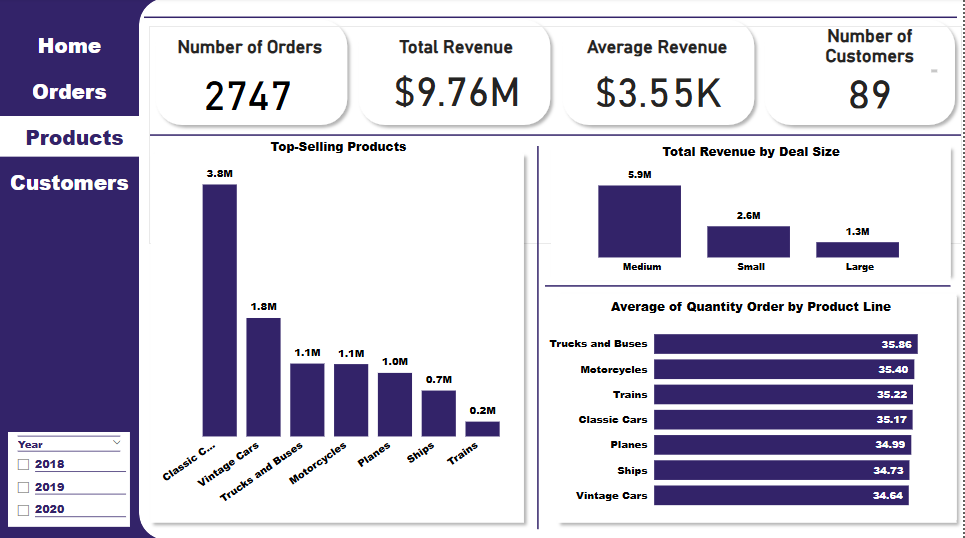

The dashboard page shown, as its layout file describes it:
{"tool":"powerbi","page":{"name":"Products","canvas":[1280,720],"ordinal":3},"visuals":[{"type":"shape","box":[739.9,20.1,272.4,157.9],"z":0,"group":"g1"},{"type":"slicer","fields":{"Values":["Orders.Year"]},"box":[11.7,360,162.4,125.9],"z":0},{"type":"shape","box":[1009.2,20.1,270.9,157.9],"z":1000,"group":"g1"},{"type":"actionButton","box":[640,36.3,152.9,52],"z":1000},{"type":"shape","box":[469,20.1,272.4,157.9],"z":2000,"group":"g1"},{"type":"shape","box":[766.1,244.3,290,138.7],"z":2000},{"type":"shape","box":[0,0,1056.6,720],"z":3000},{"type":"shape","box":[199.7,20.1,272.4,157.9],"z":3000,"group":"g1"},{"type":"shape","box":[185.9,0,1094.6,720],"z":4000},{"type":"textbox","title":"Number of Orders","box":[208.4,50.9,249.2,29.4],"z":4000,"group":"g1"},{"type":"actionButton","box":[1.5,35.1,184.4,54.1],"z":5000},{"type":"actionButton","box":[1.5,95.6,184.4,54.1],"z":6000},{"type":"textbox","title":"Total Revenue","box":[489.1,51.1,249.2,29.4],"z":7000},{"type":"actionButton","box":[1.5,216.6,184.4,54.1],"z":8000},{"type":"actionButton","box":[1.5,156.6,197.6,54.1],"z":9000},{"type":"group","id":"g1","title":"Group 1","box":[199.7,20.1,1080.3,157.9],"z":10000},{"type":"card","fields":{"Values":["Orders.NumberOf Orders"]},"box":[230.6,85.1,198.1,74.3],"z":11000},{"type":"textbox","title":"Total Revenue","box":[489.1,51.1,236.8,29.4],"z":12000},{"type":"textbox","title":"Average Revenue","box":[760,51.1,229.1,29.4],"z":13000},{"type":"textbox","title":"Number of Customers","box":[1061.8,35.6,190.4,68.1],"z":14000},{"type":"card","fields":{"Values":["Orders.Total Revenue"]},"box":[501.5,85.1,215.1,65],"z":15000},{"type":"card","fields":{"Values":["Orders.AVG Sales"]},"box":[778.5,88.2,195,61.9],"z":16000},{"type":"card","fields":{"Values":["Customers.NumberOf Customers"]},"box":[1114.4,91.3,85.1,60.4],"z":17000},{"type":"shape","box":[199,36.6,1080,289.8],"z":18000},{"type":"shape","box":[193.2,0,1080,51.2],"z":19000},{"type":"shape","box":[193.2,197.6,513.7,507.8],"z":20000},{"type":"columnChart","title":"Top-Selling Products","fields":{"Category":["Products.Product Line"],"Y":["Sum(Orders.Sales)"]},"box":[207.8,184.4,487.3,507.8],"z":21000},{"type":"shape","box":[566.3,196.1,300,509.3],"z":22000},{"type":"shape","box":[733.2,383.4,547.3,322],"z":23000},{"type":"barChart","fields":{"Category":["Products.Product Line"],"Y":["Avg(Orders.Quantity Order)"]},"box":[725.9,396.6,547.3,295.6],"z":24000},{"type":"shape","box":[725.9,232.7,538.5,300],"z":25000},{"type":"shape","box":[725.9,188.8,547.3,188.8],"z":26000},{"type":"columnChart","title":"Total Revenue by Deal Size","fields":{"Category":["Orders.Deal Size"],"Y":["Sum(Orders.Sales)"]},"box":[733.2,191.7,531.2,184.4],"z":27000},{"type":"slicer","fields":{"Values":["Orders.Year"]},"box":[11.7,576.6,162.4,125.9],"z":28000}]}

Visuals, with their boxes in screenshot pixels (x1, y1, x2, y2), scaled from the page's 1280x720 canvas onto the 965x538 screenshot:
shape: {"left": 558, "top": 15, "right": 763, "bottom": 133}
slicer - Orders.Year: {"left": 9, "top": 269, "right": 131, "bottom": 363}
shape: {"left": 761, "top": 15, "right": 964, "bottom": 133}
actionButton: {"left": 482, "top": 27, "right": 598, "bottom": 66}
shape: {"left": 354, "top": 15, "right": 559, "bottom": 133}
shape: {"left": 578, "top": 183, "right": 796, "bottom": 286}
shape: {"left": 0, "top": 0, "right": 797, "bottom": 537}
shape: {"left": 151, "top": 15, "right": 356, "bottom": 133}
shape: {"left": 140, "top": 0, "right": 964, "bottom": 537}
"Number of Orders" textbox: {"left": 157, "top": 38, "right": 345, "bottom": 60}
actionButton: {"left": 1, "top": 26, "right": 140, "bottom": 67}
actionButton: {"left": 1, "top": 71, "right": 140, "bottom": 112}
"Total Revenue" textbox: {"left": 369, "top": 38, "right": 557, "bottom": 60}
actionButton: {"left": 1, "top": 162, "right": 140, "bottom": 202}
actionButton: {"left": 1, "top": 117, "right": 150, "bottom": 157}
"Group 1" group: {"left": 151, "top": 15, "right": 964, "bottom": 133}
card - Orders.NumberOf Orders: {"left": 174, "top": 64, "right": 323, "bottom": 119}
"Total Revenue" textbox: {"left": 369, "top": 38, "right": 547, "bottom": 60}
"Average Revenue" textbox: {"left": 573, "top": 38, "right": 746, "bottom": 60}
"Number of Customers" textbox: {"left": 800, "top": 27, "right": 944, "bottom": 77}
card - Orders.Total Revenue: {"left": 378, "top": 64, "right": 540, "bottom": 112}
card - Orders.AVG Sales: {"left": 587, "top": 66, "right": 734, "bottom": 112}
card - Customers.NumberOf Customers: {"left": 840, "top": 68, "right": 904, "bottom": 113}
shape: {"left": 150, "top": 27, "right": 964, "bottom": 244}
shape: {"left": 146, "top": 0, "right": 960, "bottom": 38}
shape: {"left": 146, "top": 148, "right": 533, "bottom": 527}
"Top-Selling Products" columnChart: {"left": 157, "top": 138, "right": 524, "bottom": 517}
shape: {"left": 427, "top": 147, "right": 653, "bottom": 527}
shape: {"left": 553, "top": 286, "right": 964, "bottom": 527}
barChart - Products.Product Line x Avg(Orders.Quantity Order): {"left": 547, "top": 296, "right": 960, "bottom": 517}
shape: {"left": 547, "top": 174, "right": 953, "bottom": 398}
shape: {"left": 547, "top": 141, "right": 960, "bottom": 282}
"Total Revenue by Deal Size" columnChart: {"left": 553, "top": 143, "right": 953, "bottom": 281}
slicer - Orders.Year: {"left": 9, "top": 431, "right": 131, "bottom": 525}
